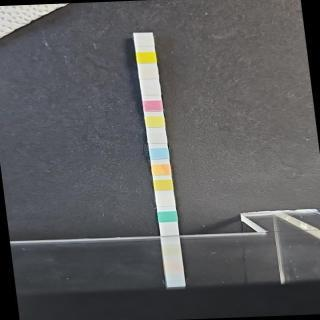mark: (138, 68, 160, 81), (149, 148, 170, 161), (136, 51, 156, 64), (147, 131, 167, 144), (140, 84, 161, 96), (143, 100, 164, 112), (153, 179, 174, 191), (134, 36, 154, 48), (146, 116, 166, 128), (156, 194, 176, 206), (158, 211, 178, 223), (152, 164, 171, 176)
